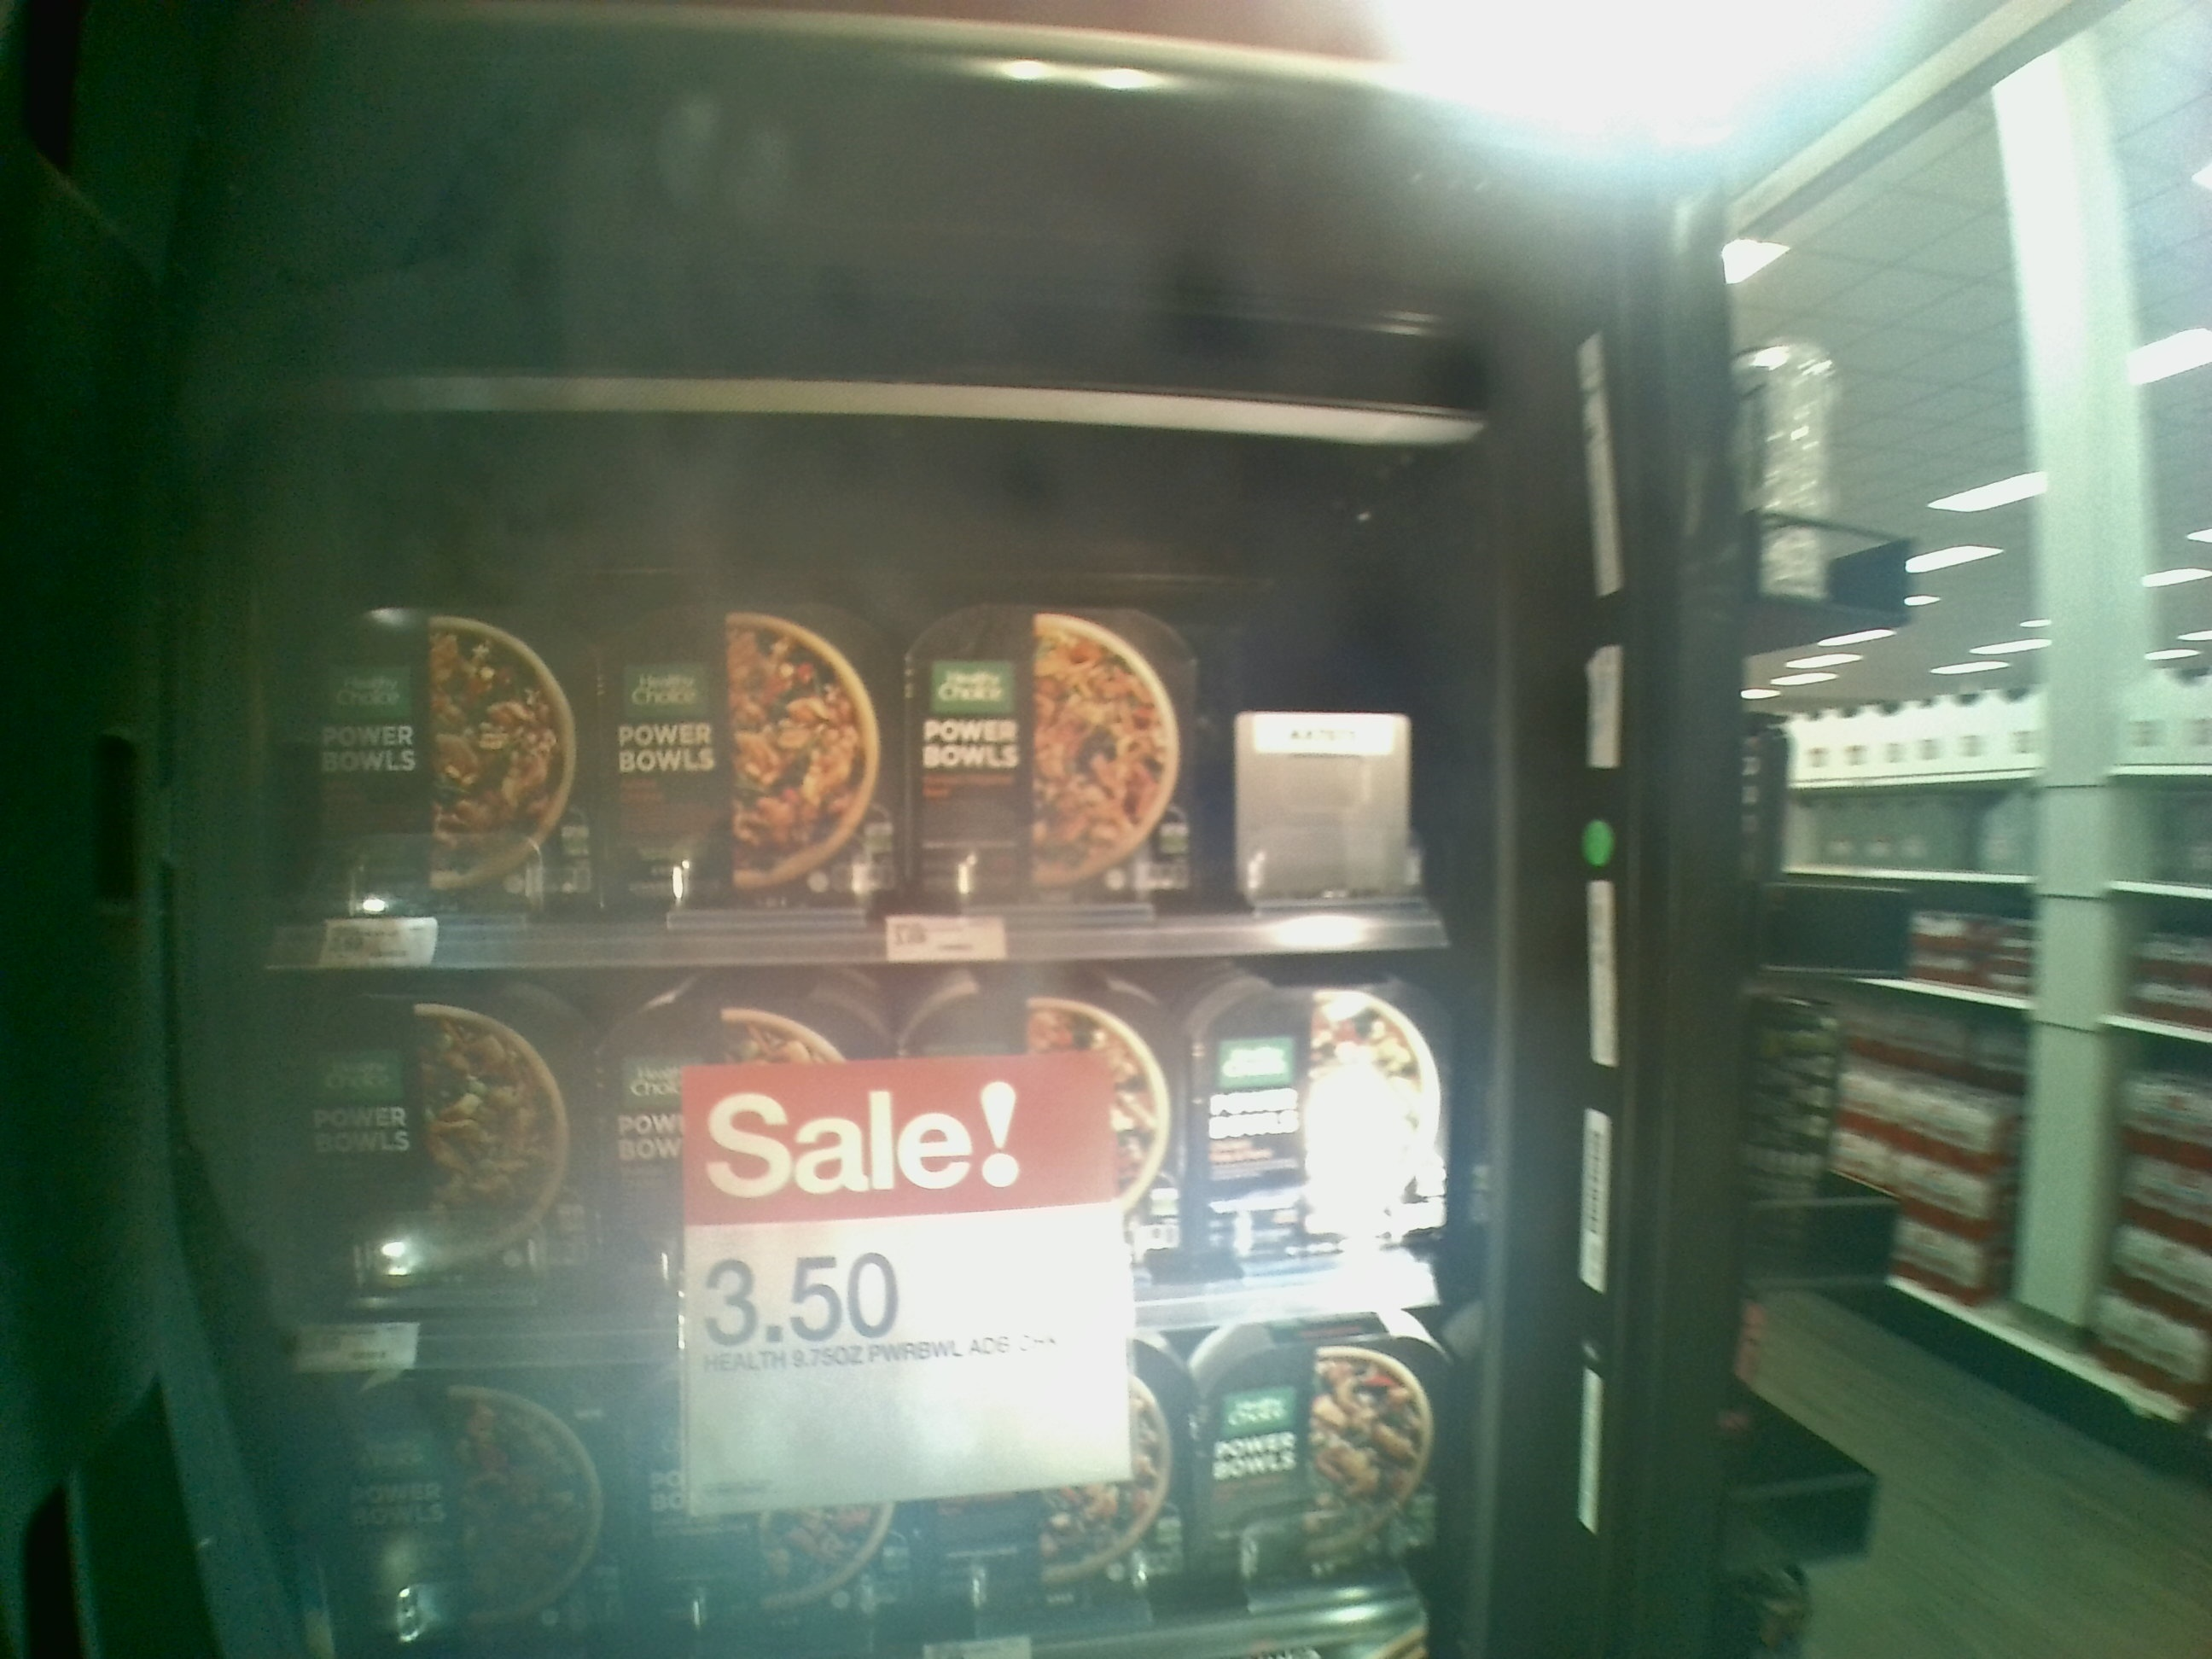shelf: (256, 397, 1460, 974)
